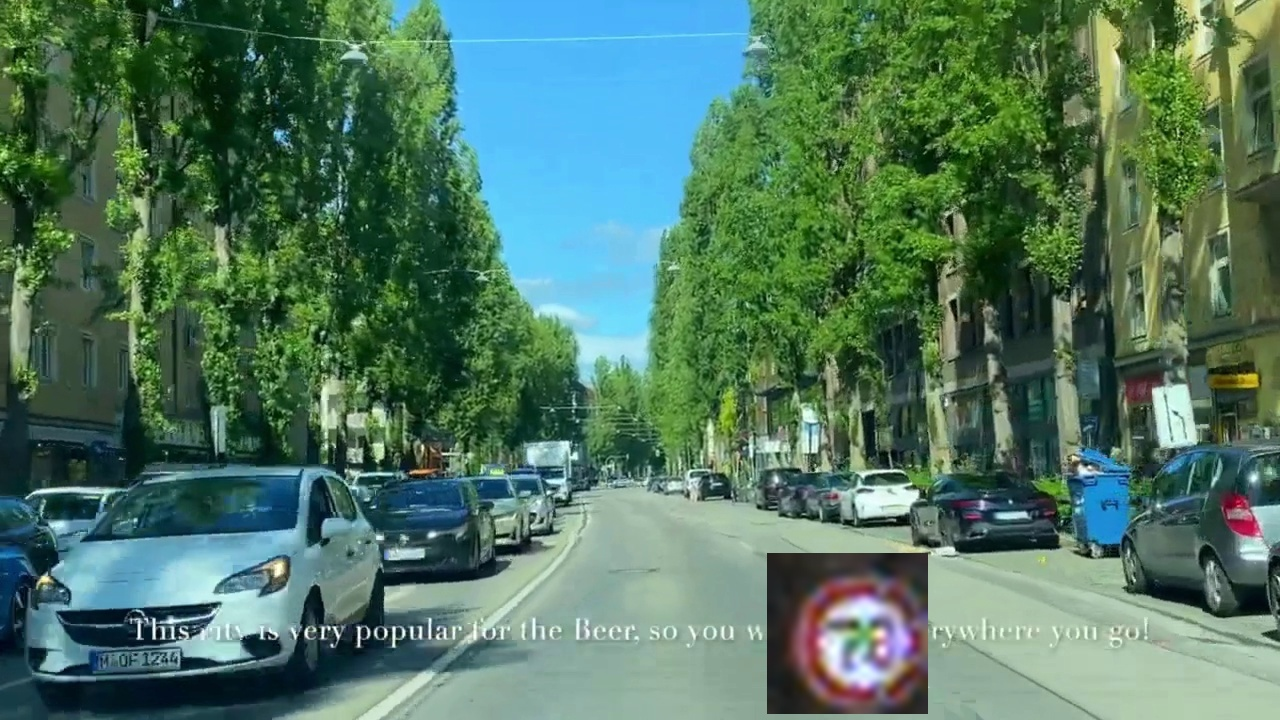Speed 70: (767, 553, 928, 714)
